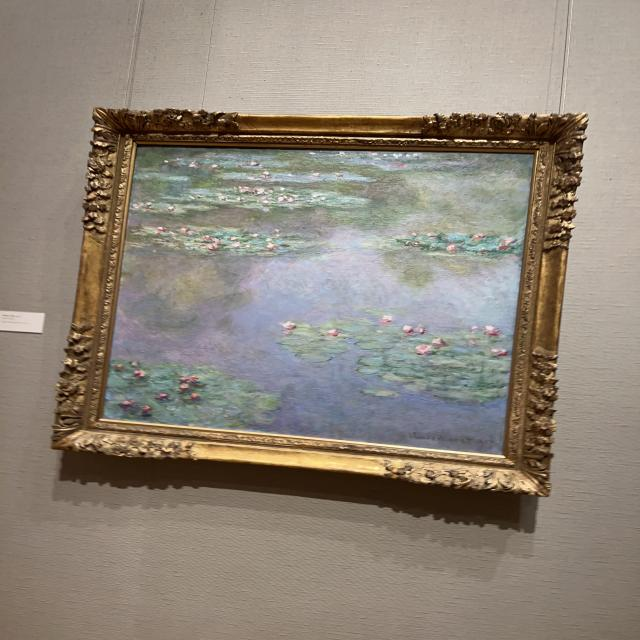lilies: (104, 149, 532, 452)
